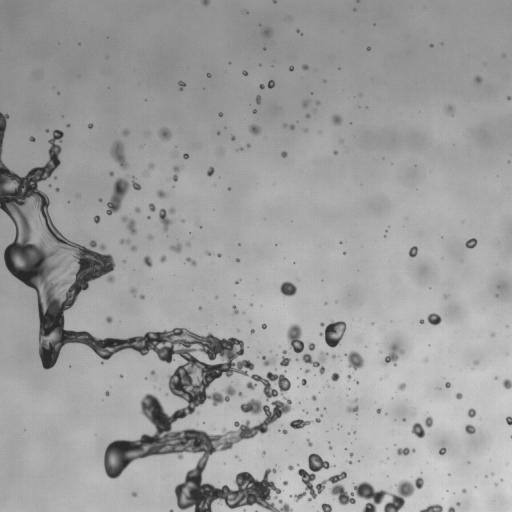droplet: (319, 321, 346, 347), (302, 351, 327, 374), (286, 324, 304, 353), (383, 345, 403, 365), (345, 351, 364, 369), (159, 208, 174, 230), (280, 281, 296, 296), (411, 422, 425, 438), (158, 127, 171, 140), (427, 313, 441, 325), (262, 356, 275, 366), (465, 238, 477, 248), (280, 356, 290, 366), (465, 424, 475, 434), (249, 125, 260, 134), (424, 416, 433, 427), (397, 448, 410, 455), (170, 244, 181, 252), (409, 246, 417, 257), (346, 406, 358, 413), (332, 115, 341, 124), (143, 256, 151, 266), (321, 503, 331, 511), (445, 105, 453, 114), (503, 379, 511, 388), (331, 373, 339, 381), (207, 167, 214, 176), (468, 408, 475, 417), (263, 29, 271, 36), (178, 81, 185, 89), (157, 190, 165, 197), (148, 203, 155, 211), (308, 342, 315, 350), (474, 76, 481, 83), (398, 383, 405, 390), (268, 80, 274, 88), (94, 215, 100, 223), (233, 305, 238, 314), (506, 416, 511, 425), (160, 255, 166, 262), (439, 448, 446, 454), (281, 151, 287, 157), (130, 288, 136, 294), (106, 316, 112, 322), (456, 393, 462, 399), (202, 0, 209, 5), (307, 439, 312, 446), (256, 95, 260, 103), (447, 507, 455, 511), (302, 64, 308, 69), (29, 136, 35, 141), (301, 379, 306, 385), (445, 382, 450, 388), (302, 101, 307, 106), (123, 130, 128, 135), (100, 245, 105, 250), (261, 324, 266, 329), (150, 371, 155, 376), (376, 408, 381, 413), (288, 465, 293, 470), (149, 163, 153, 169), (281, 429, 287, 433), (289, 66, 293, 71), (242, 71, 247, 75), (259, 84, 264, 88), (88, 123, 92, 128), (183, 154, 188, 158), (135, 207, 139, 212), (347, 374, 351, 379), (290, 125, 294, 129), (231, 136, 235, 140), (109, 171, 113, 175), (148, 235, 152, 239), (131, 246, 135, 250), (217, 253, 221, 257), (320, 322, 324, 326), (250, 329, 254, 333), (283, 350, 287, 354), (105, 391, 109, 395), (238, 392, 242, 396), (312, 396, 316, 400), (349, 452, 353, 456), (283, 481, 287, 485), (462, 489, 466, 493), (132, 492, 136, 496), (207, 73, 210, 77), (219, 112, 222, 116), (238, 147, 242, 150), (420, 319, 423, 323), (305, 369, 308, 373), (456, 502, 460, 505), (367, 47, 370, 50), (253, 110, 256, 113), (334, 151, 337, 154), (99, 198, 102, 201), (207, 252, 210, 255), (236, 258, 239, 261), (141, 295, 144, 298), (474, 361, 477, 364), (262, 451, 265, 454), (272, 0, 276, 2), (332, 355, 336, 357), (169, 509, 173, 511), (430, 44, 432, 47), (508, 96, 510, 99), (46, 129, 48, 132), (444, 295, 447, 297), (199, 306, 201, 309), (424, 359, 427, 361), (412, 449, 415, 451), (348, 461, 351, 463), (297, 30, 299, 32), (317, 102, 319, 104), (67, 124, 69, 126), (56, 188, 58, 190), (187, 242, 189, 244), (353, 431, 355, 433), (329, 447, 331, 449)
ligament: (0, 112, 292, 511), (293, 453, 423, 511), (106, 178, 140, 215), (110, 141, 127, 168), (122, 217, 136, 233), (289, 419, 310, 428), (419, 504, 442, 511), (172, 166, 179, 181), (187, 257, 195, 265), (315, 415, 322, 422), (120, 239, 129, 243), (235, 280, 240, 284), (356, 0, 359, 1)
